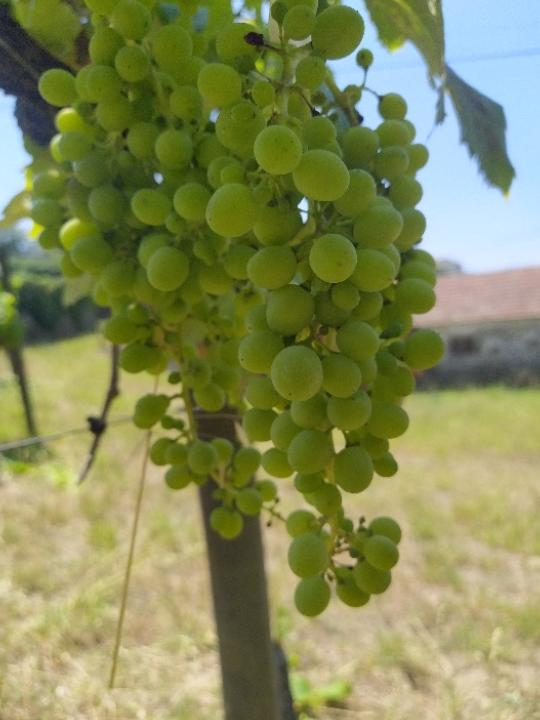grape: (30, 0, 447, 619)
